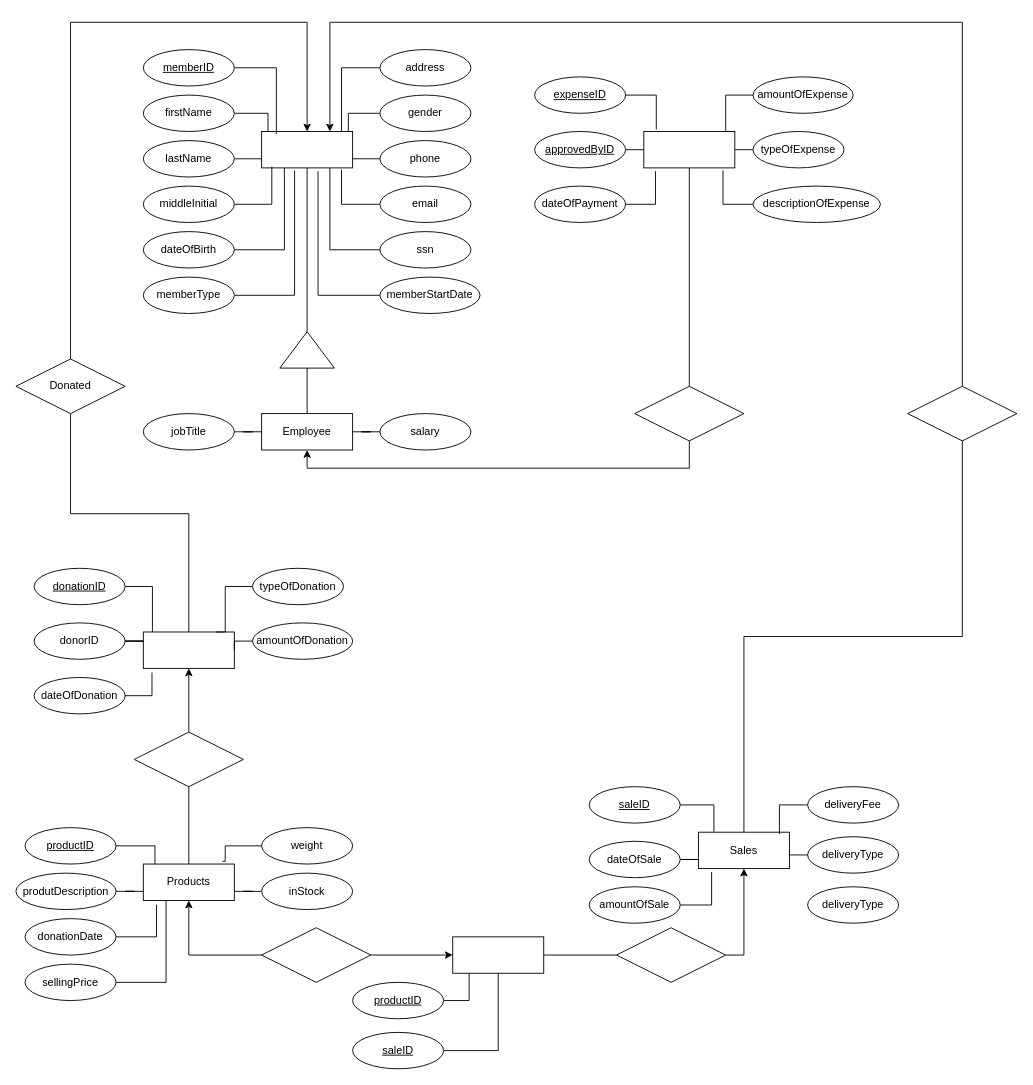
The diagram is 1033 pixels wide and 1085 high, and some of its shapes have lost their labels. Each missing label, with the centre of its shape:
Approved: the point at 689,413
Bought: the point at 962,413
ComposedOf: the point at 188,759
Donations: the point at 188,649
Expenses: the point at 689,149
IsA: the point at 306,349
LoggedInto: the point at 671,954
Member: the point at 307,149
SalesItems: the point at 498,954
Sold: the point at 316,954
